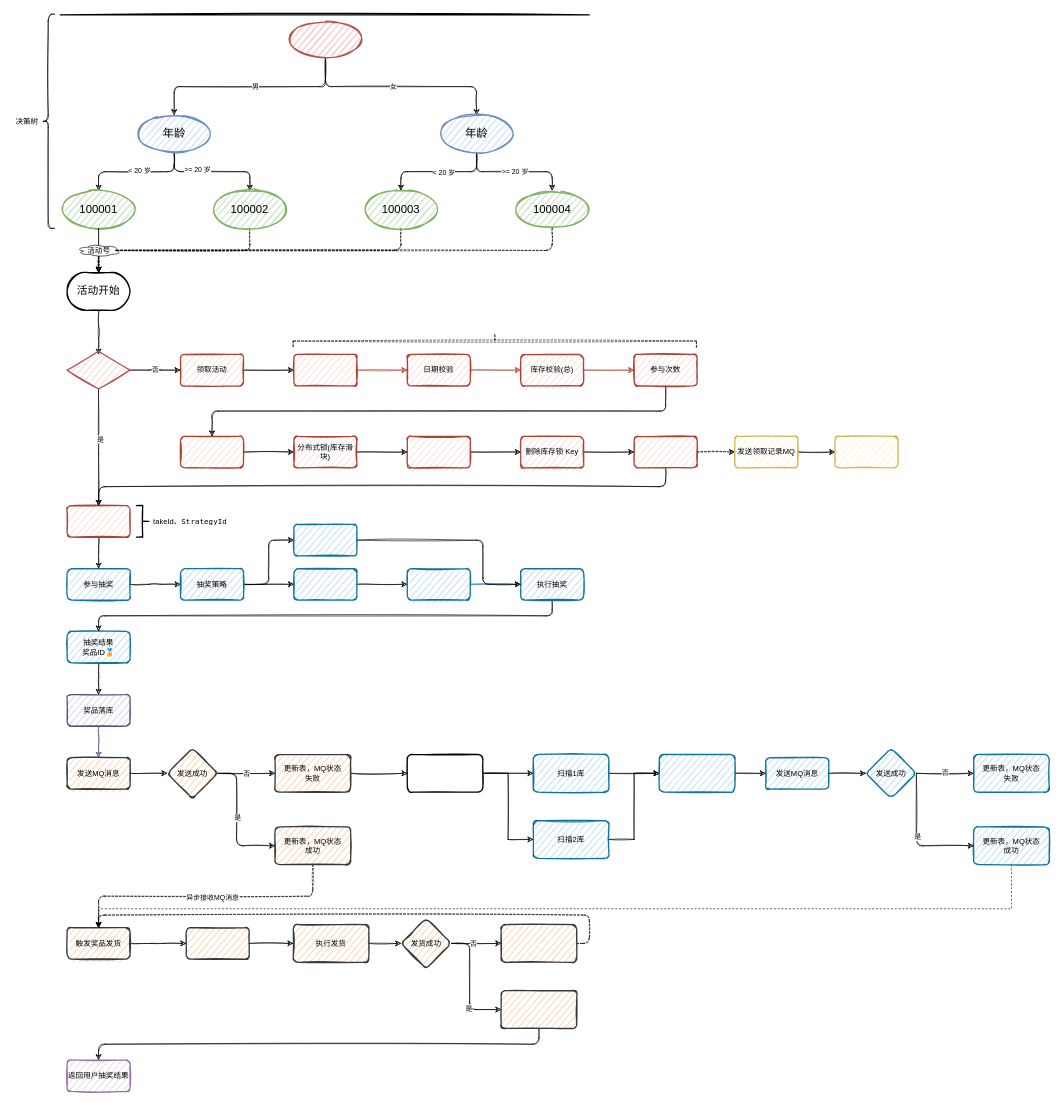
Image size: 1060x1103. Some labels were removed from this diagram. Here are the shapes that lost their labels. From the top down, the box of each, then its label:
(287, 20, 364, 59): 性别
(293, 334, 696, 347): 查询活动账单，并校验信息
(66, 350, 130, 389): 是否存在 未执行 抽奖单
(293, 353, 357, 386): 状态校验
(180, 435, 244, 468): redis 扣减库存
(406, 435, 471, 468): 插入领取记录
(633, 435, 697, 468): 领取完成
(834, 435, 898, 468): 异步更新库存
(66, 505, 130, 537): 获取抽奖单信息
(293, 524, 357, 556): 总体概率
(293, 568, 357, 600): 单项概率
(406, 568, 471, 600): 初始数据 斐波那契
(406, 753, 483, 793): Worker 扫描表发送状态进行补偿发送MQ
(658, 753, 735, 793): 扫描4张表 读取未发送MQ数据
(185, 927, 249, 959): 获取奖品发货工厂服务
(500, 924, 577, 963): MQ 消息重试
(500, 990, 577, 1029): 更新库表发货状态
